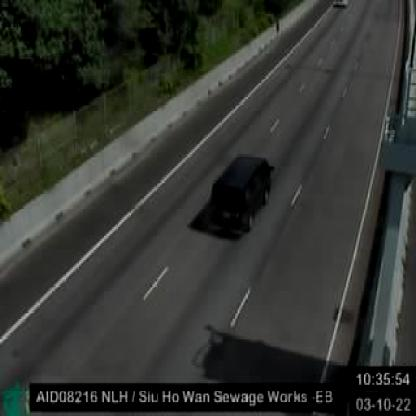Car: (208, 154, 272, 229)
